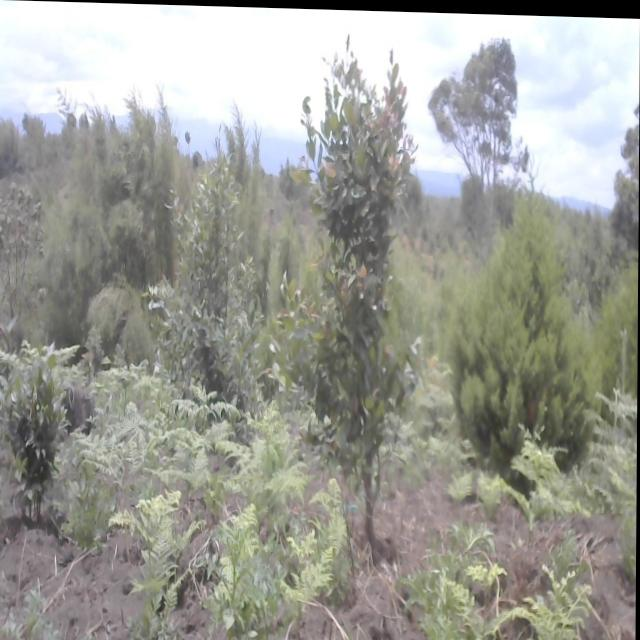cedrus: (453, 189, 606, 464)
